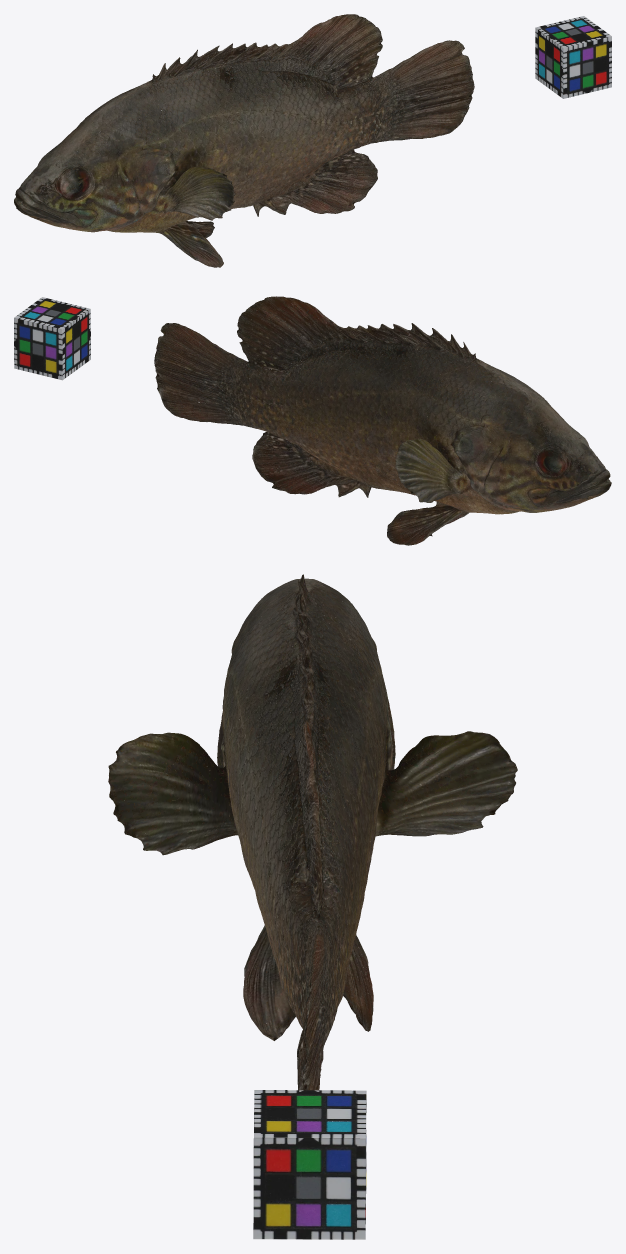
File: scan_auchaperch.glb
3 renders of one model, top to bottom at view 1: azimuth 30°, elevation 25°; view 2: azimuth 150°, elevation 25°; view 3: azimuth 270°, elevation 25°, orthographic. The views are drawn at different scales.
Visible parts, largest first — view 1: Object_11, Object_6, Object_4; view 2: Object_6, Object_11, Object_4; view 3: Object_11, Object_6, Object_4.
Boxes of the visible parts, <box> form: Object_11: <box>14,14,474,267</box>; Object_6: <box>14,14,474,267</box>; Object_4: <box>535,16,611,98</box>; Object_6: <box>154,296,611,545</box>; Object_11: <box>154,296,611,545</box>; Object_4: <box>14,297,90,380</box>; Object_11: <box>108,576,516,1090</box>; Object_6: <box>108,574,517,1090</box>; Object_4: <box>253,1090,366,1239</box>.
Size of the model in its own units: 11.08 by 3.91 by 3.38.
Materials: 3 (3 with a texture image).
